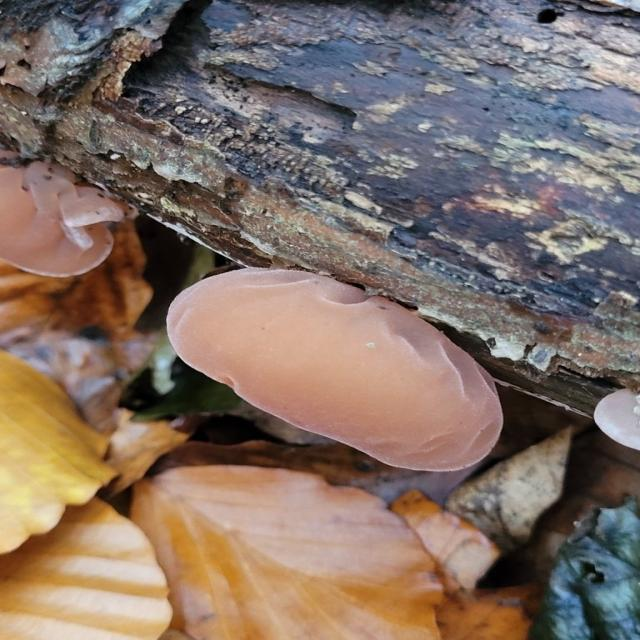Fase Muda: (155, 262, 544, 484), (0, 145, 136, 284)
